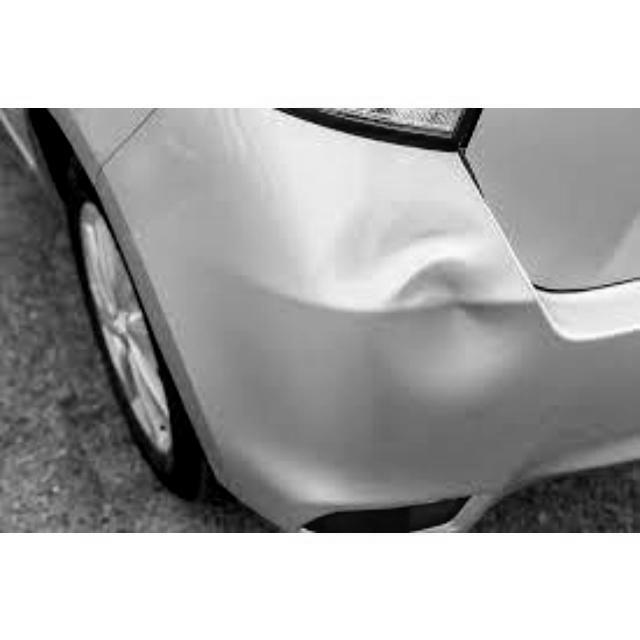rear-bumper-dent: (157, 228, 638, 532)
